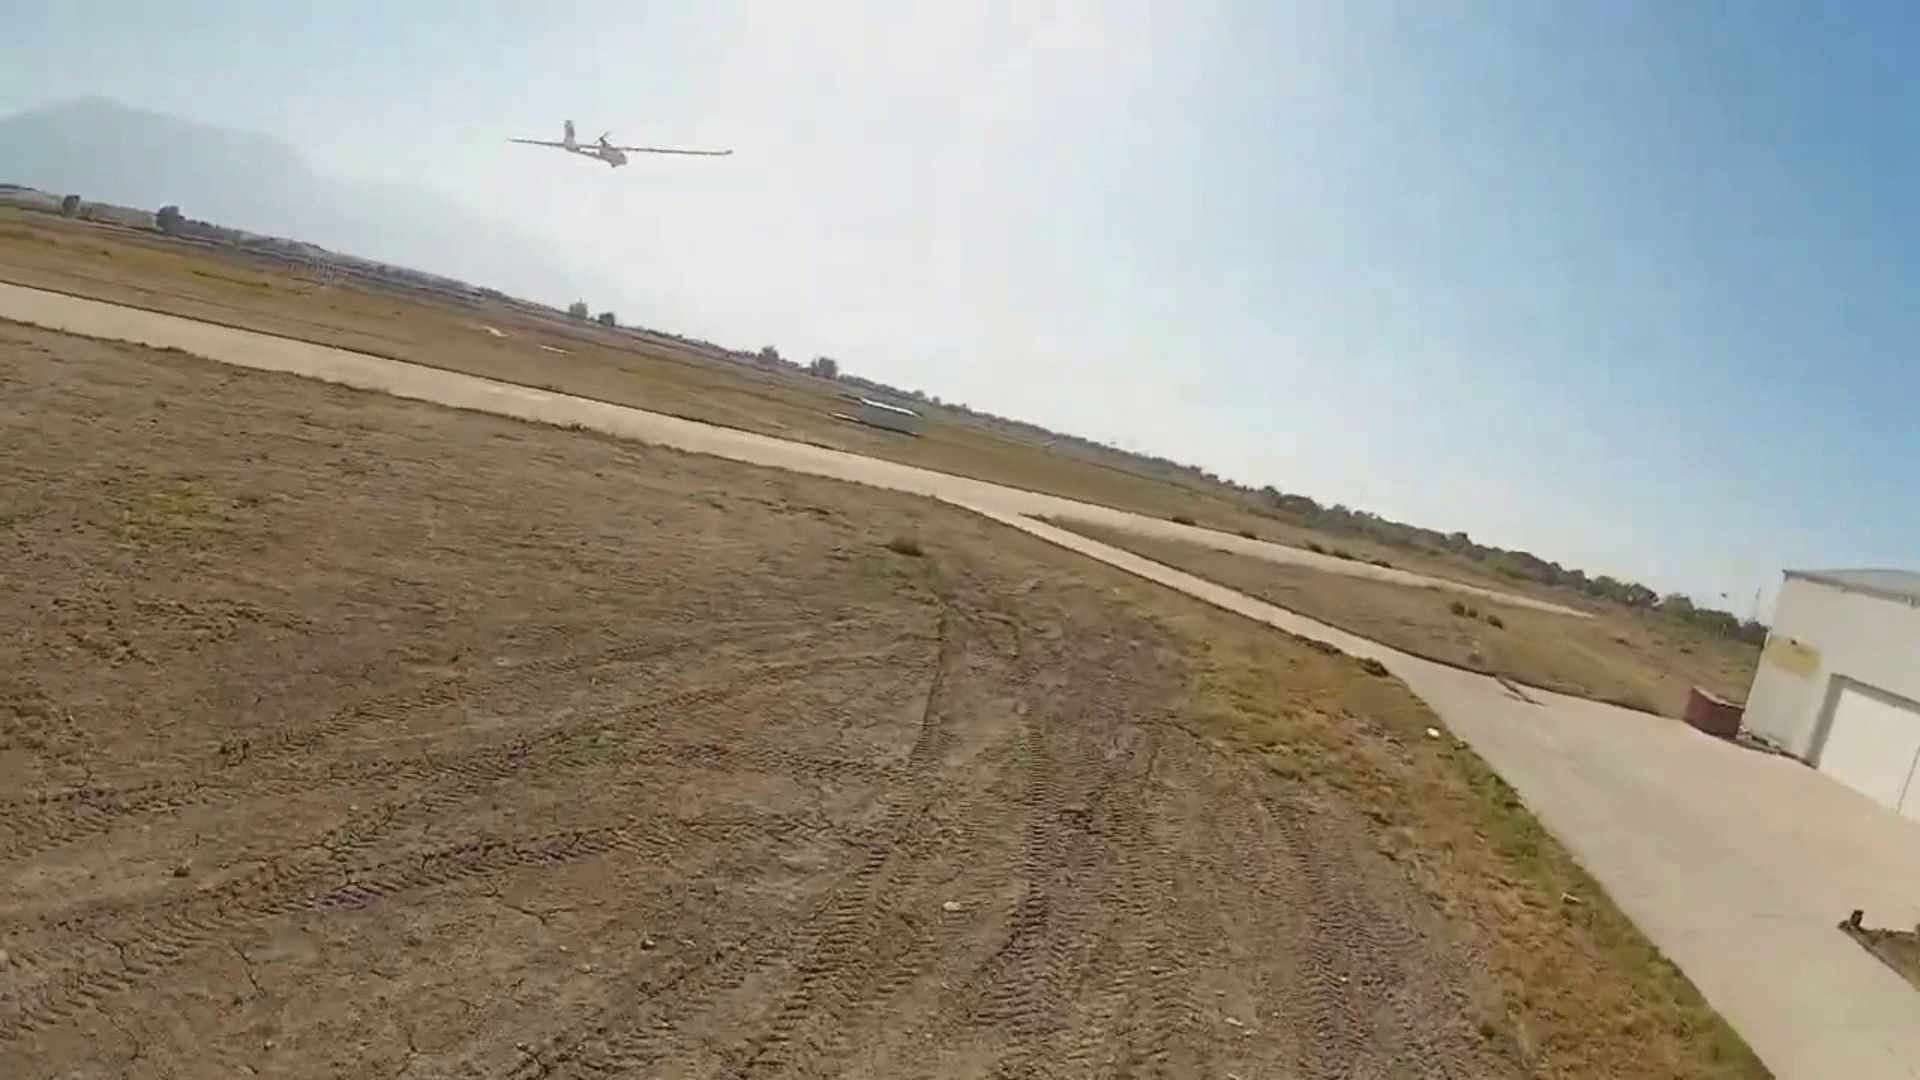airplane: (507, 123, 735, 172)
